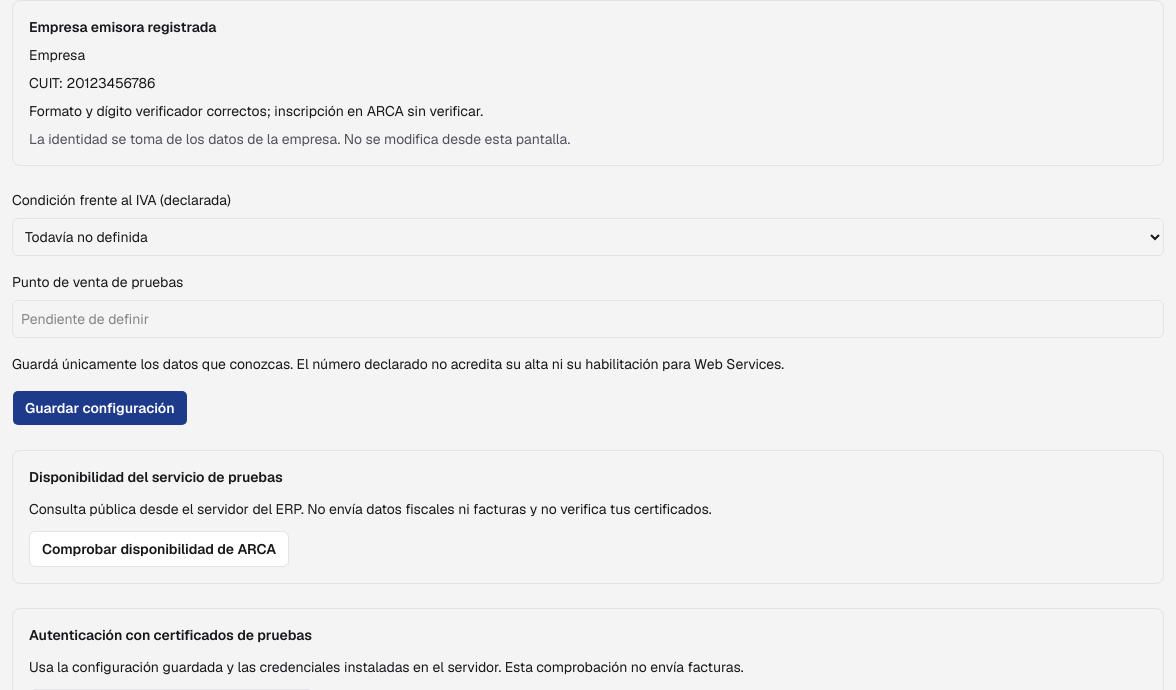
Test case: Homologation setup › allows unknown values without inventing fiscal defaults
The image size is (1176, 690).
Expected: the dropdown shows "Todavía no definida", [12,218,1164,256]
Expected: the field is empty, [12,300,1164,338]
Click the button "Guardar configuración" at (100, 408), box [12,390,188,426]
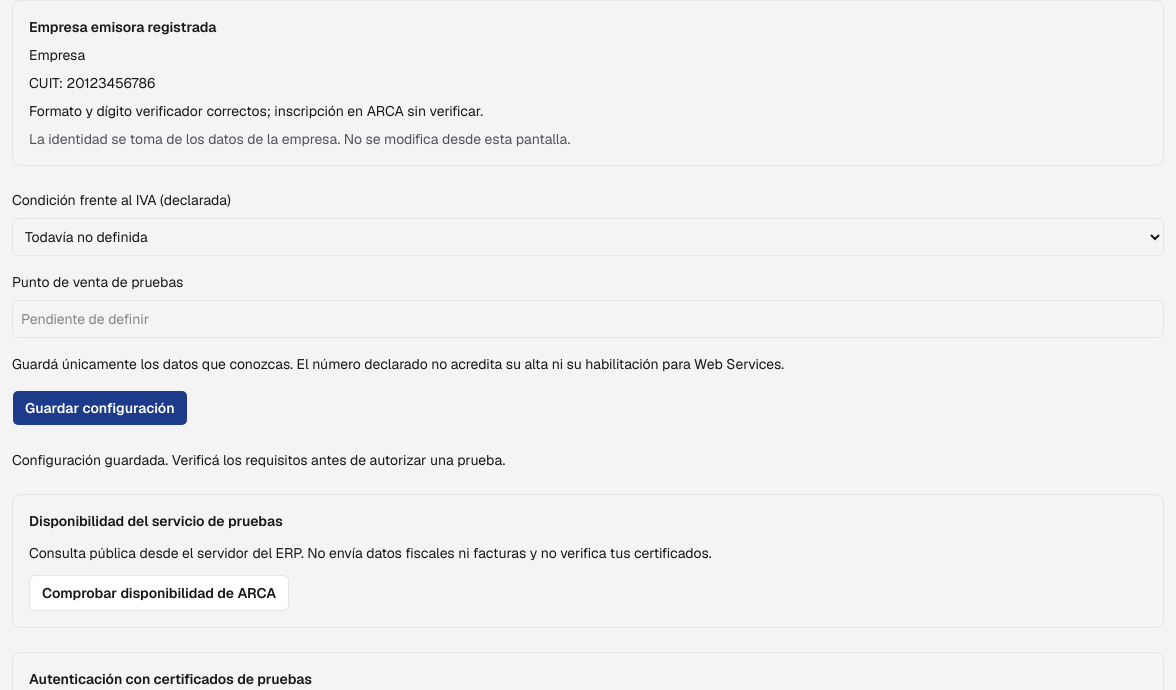
Expected: the message "Configuración guardada. Verificá los requisitos antes de autorizar una prueba." is shown, [12,451,505,469]
